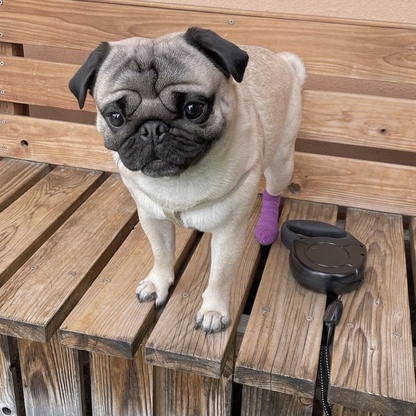Pug: (65, 24, 308, 336)
